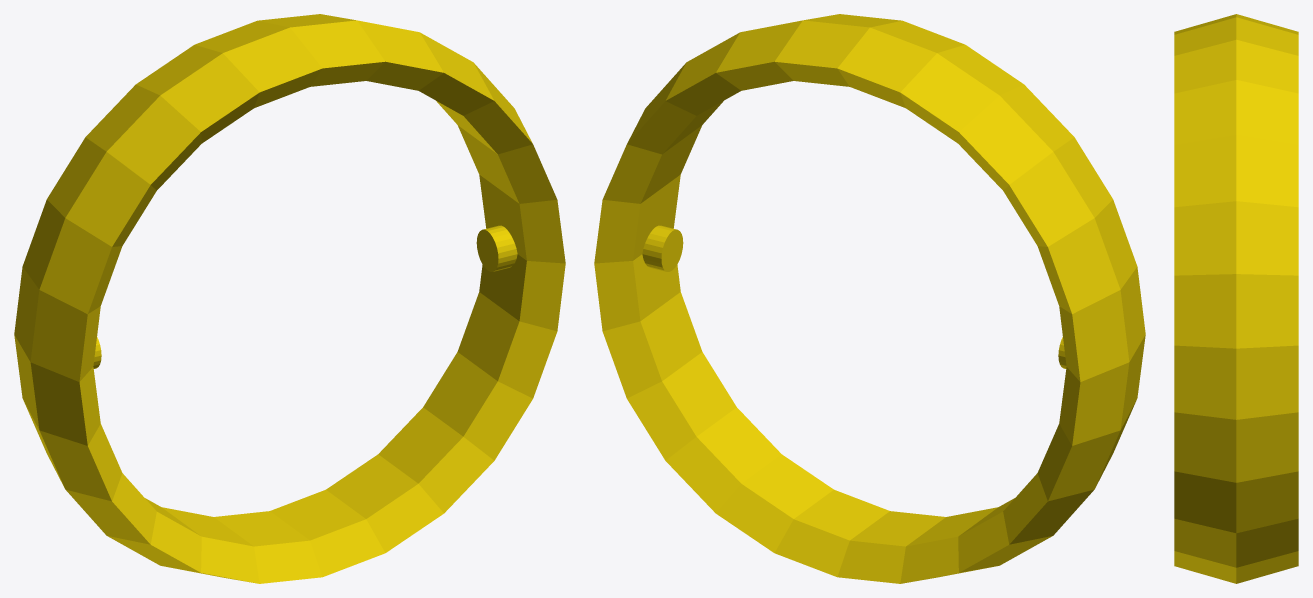
File: gyroscope2.glb
3 views of the same model, side by side, from view 1: azimuth 30°, elevation 25°; view 2: azimuth 150°, elevation 25°; view 3: azimuth 270°, elevation 25° (orthographic). The views are drawn at different scales.
Visible parts, largest first — view 1: Torus, Cylinder.003; view 2: Torus, Cylinder.003; view 3: Torus.
Boxes of the visible parts, box(x1,y1,x2,y2) form: Torus: box(14, 14, 565, 583); Cylinder.003: box(476, 225, 517, 271); Torus: box(594, 14, 1145, 583); Cylinder.003: box(642, 225, 683, 271); Torus: box(1174, 14, 1298, 583).
Bounding box in the file's own units: 2.75 × 2.75 × 0.5992.
